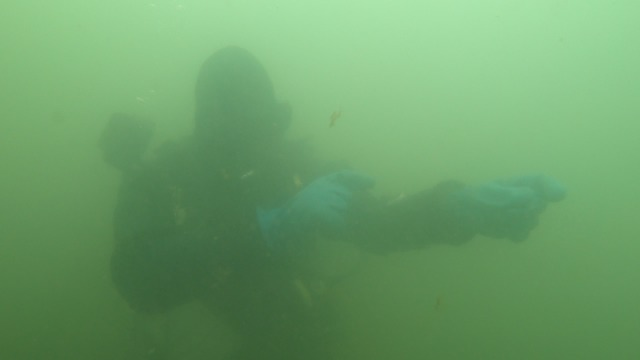Diver: (93, 40, 574, 357)
Hand: (435, 155, 571, 254), (247, 168, 385, 261)
Head: (187, 41, 302, 188)
